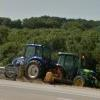Tractor: (18, 39, 94, 84)
